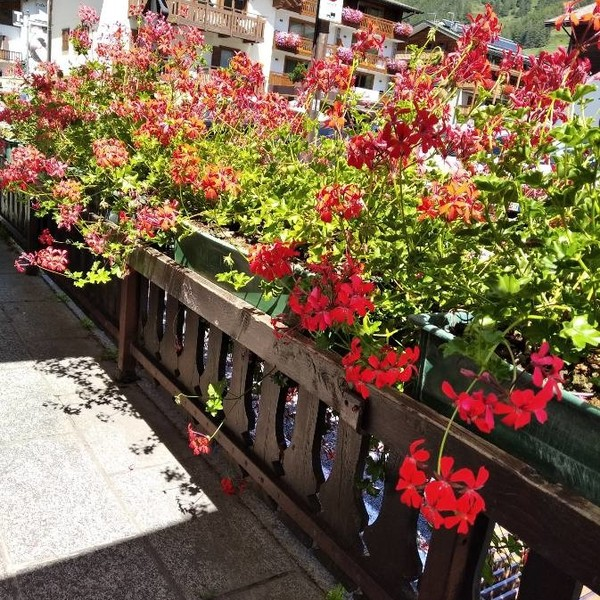obstacle: (59, 38, 556, 458)
